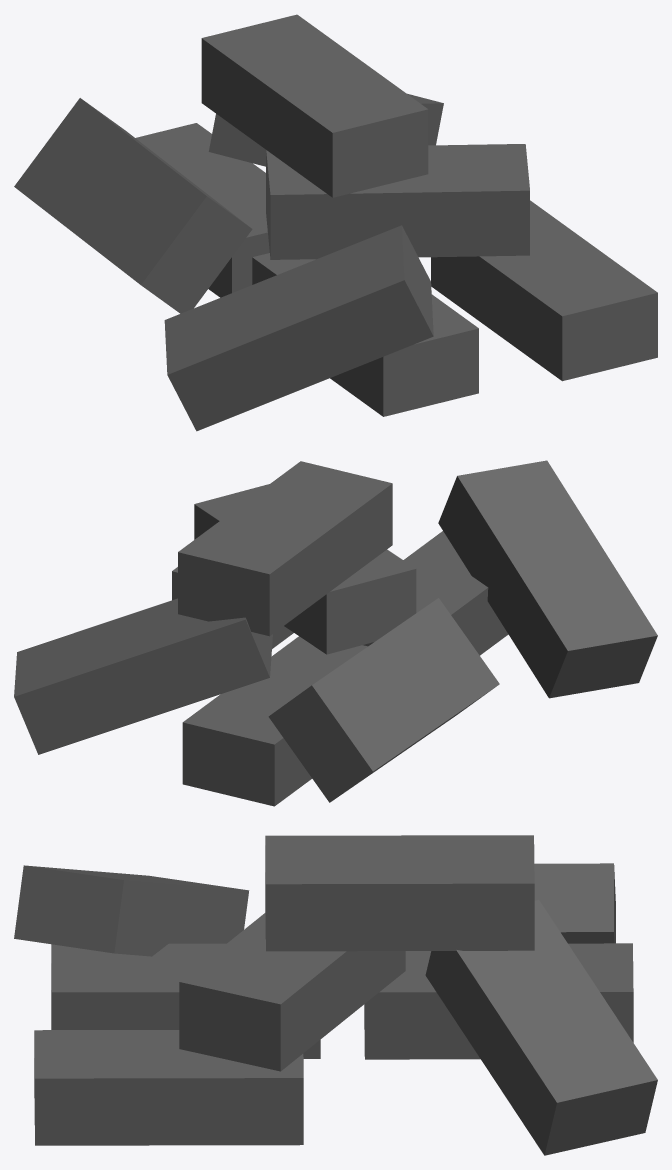
Rendered from coloredLooseBricks3.fbx.
3 renders of one model, top to bottom at view 1: azimuth 30°, elevation 25°; view 2: azimuth 150°, elevation 25°; view 3: azimuth 270°, elevation 25°, orthographic. The views are drawn at different scales.
Visible parts, largest first — view 1: Cube.009; view 2: Cube.009; view 3: Cube.009.
Boxes of the visible parts, x1,y1,x2,y2 form: Cube.009: [14, 14, 657, 431]; Cube.009: [14, 460, 657, 806]; Cube.009: [14, 835, 657, 1155].
Bounding box in the file's own units: 40.63 × 16.86 × 46.24.
